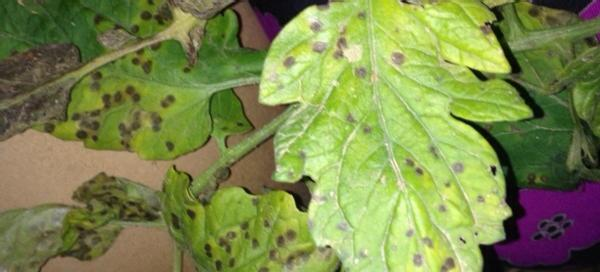Tomato Septoria leaf spot: (256, 1, 534, 270), (1, 0, 249, 163), (8, 156, 164, 264)
